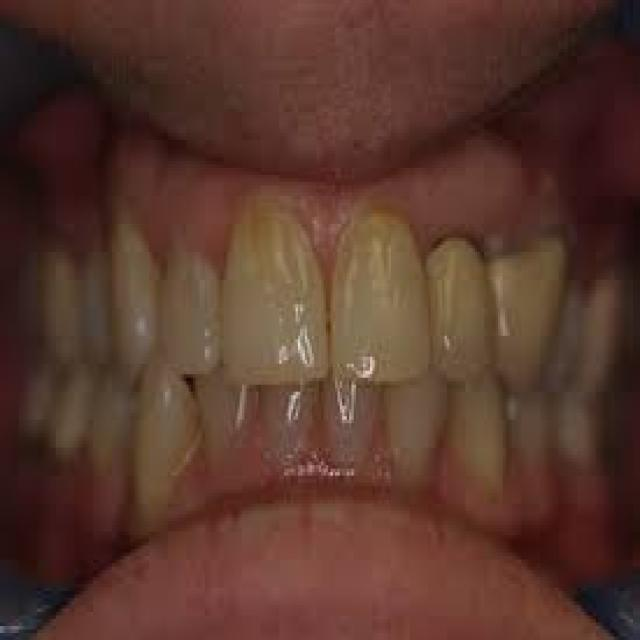tooth: (214, 206, 333, 385), (326, 217, 430, 378), (489, 207, 563, 396), (130, 353, 196, 518), (422, 231, 494, 381), (152, 234, 224, 374), (102, 217, 158, 374), (452, 371, 514, 486), (195, 367, 263, 462), (263, 378, 328, 468), (389, 371, 449, 468), (322, 371, 379, 462), (84, 367, 132, 469)
